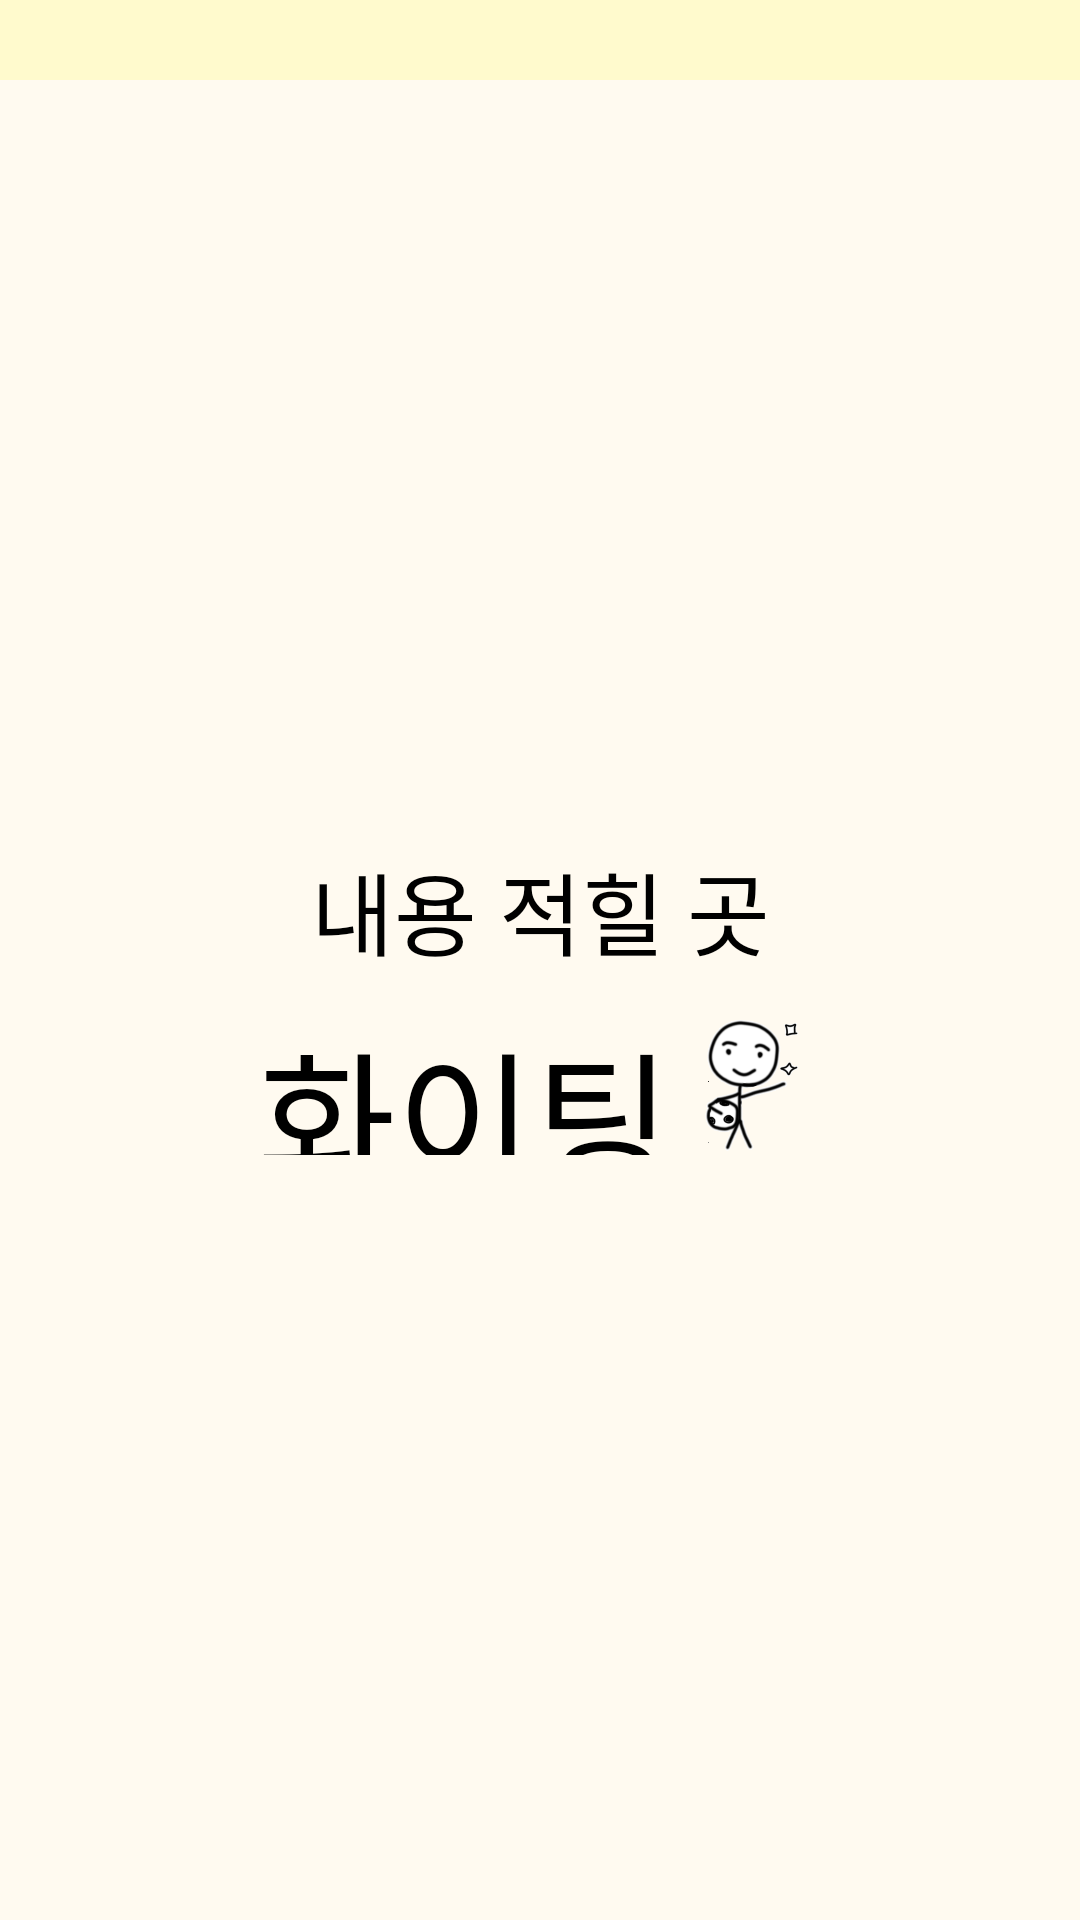

Named icons in this screenshot (1080×1920) and their bounding boxes, rect(x1, y1, x2, y2):
goal letter guy: rect(706, 1021, 798, 1150)
